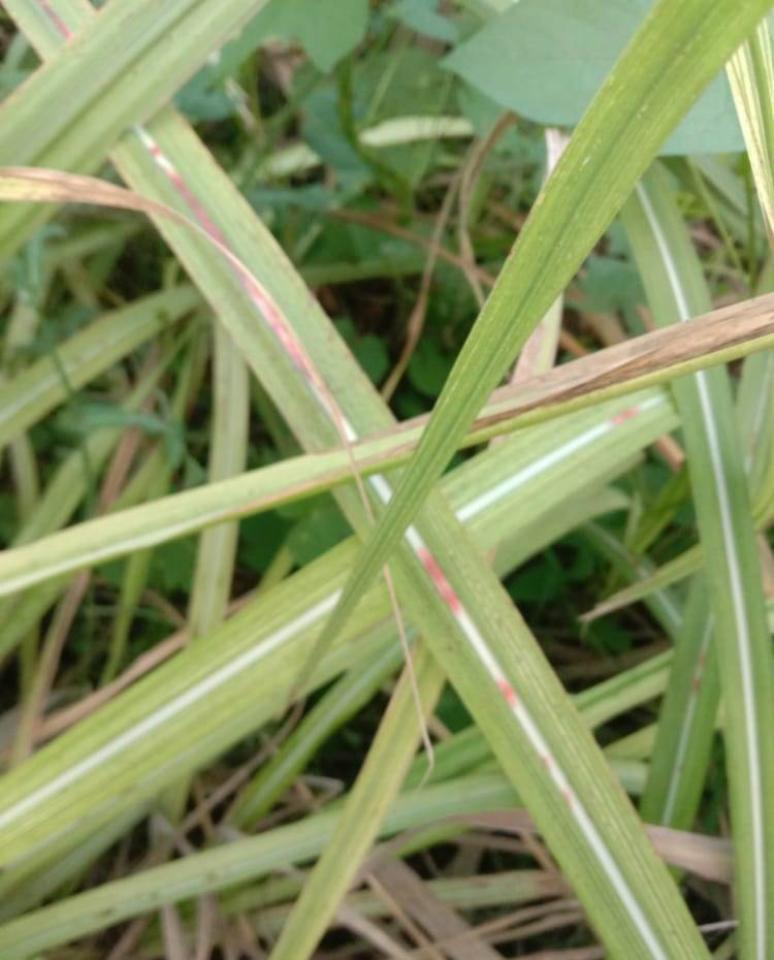RedRot: (228, 259, 317, 385), (146, 143, 234, 254), (416, 545, 464, 619), (542, 752, 579, 804), (35, 0, 74, 41), (496, 677, 519, 711), (692, 649, 708, 693), (611, 408, 639, 425)
